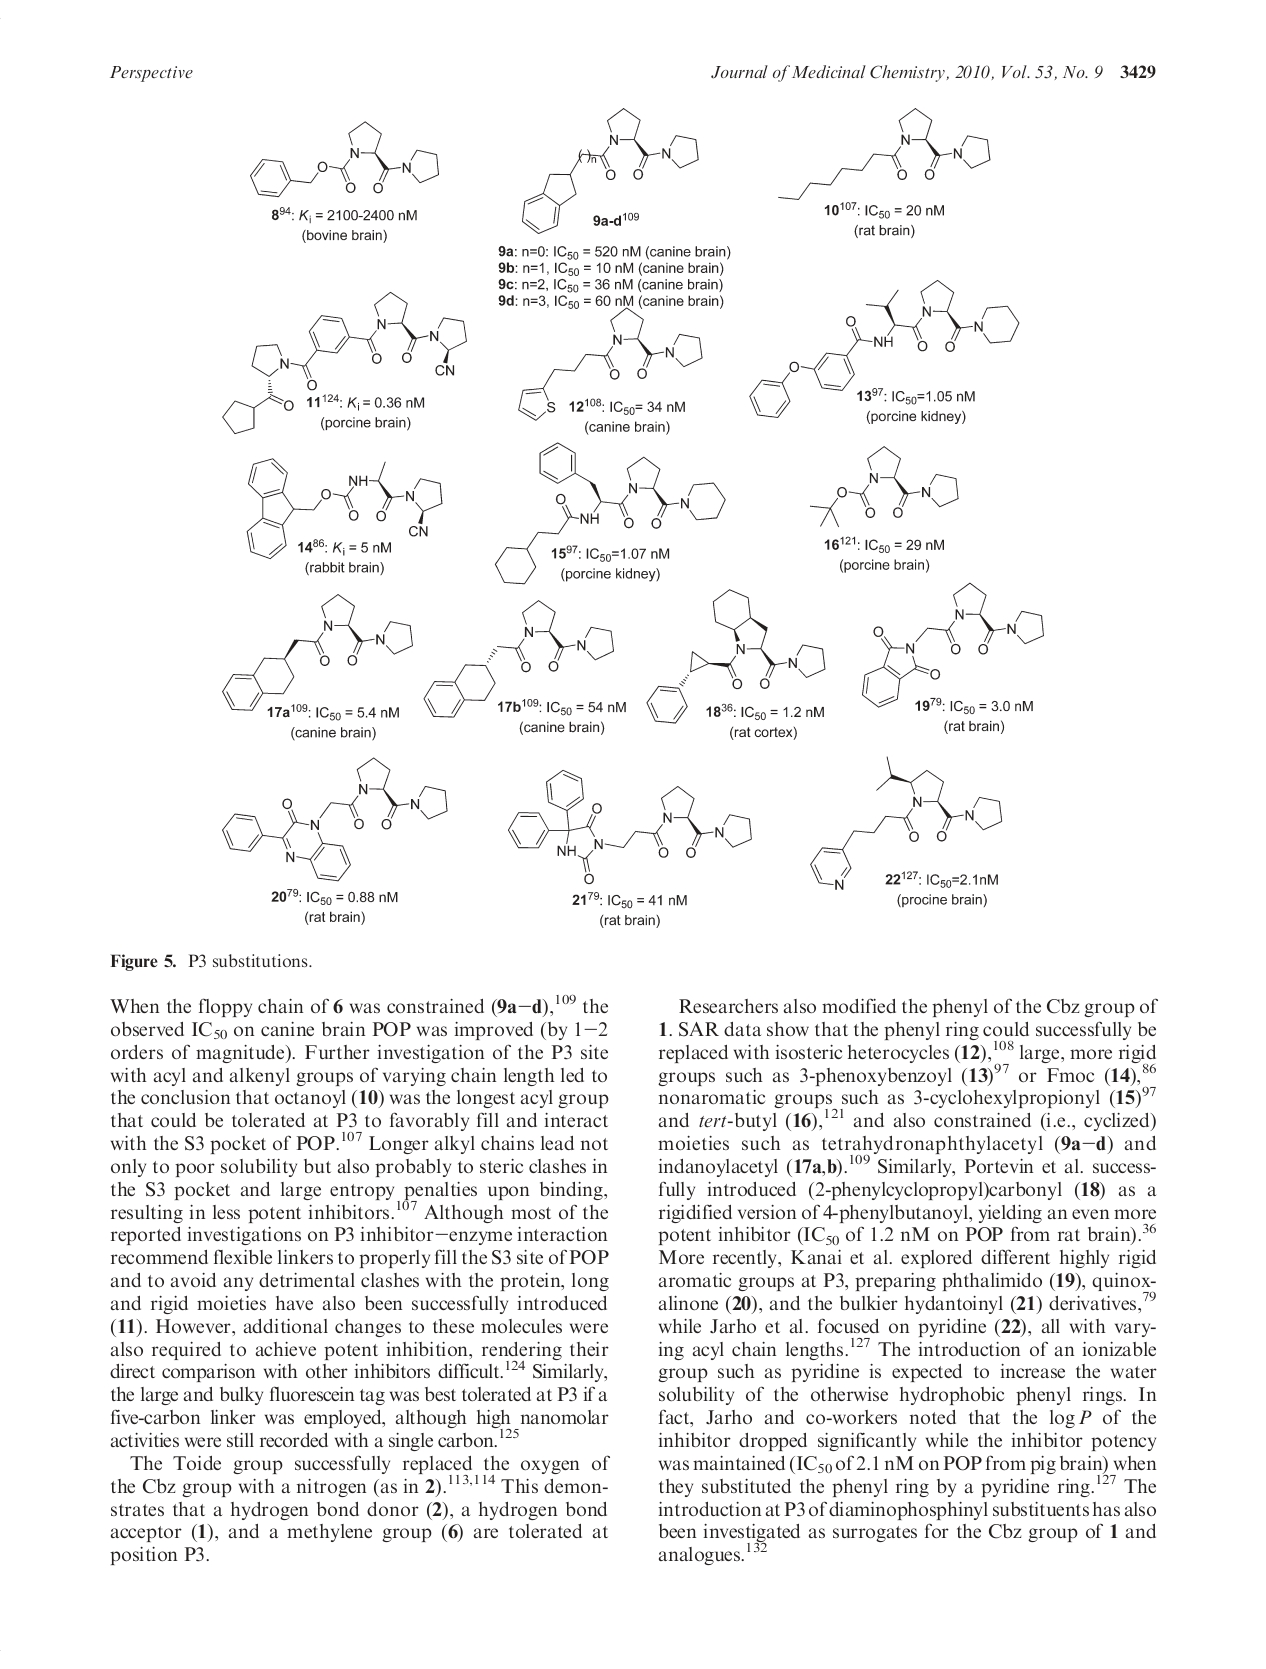exist_molecular: (747, 281, 1021, 420), (222, 291, 472, 436), (493, 442, 727, 586), (505, 769, 755, 886), (221, 755, 449, 883), (809, 753, 1005, 892), (646, 586, 827, 725), (860, 580, 1047, 707), (422, 597, 616, 719), (519, 105, 701, 235), (219, 592, 415, 711), (774, 105, 992, 203), (246, 455, 445, 561), (517, 309, 705, 422), (247, 118, 442, 199), (809, 446, 960, 531)
